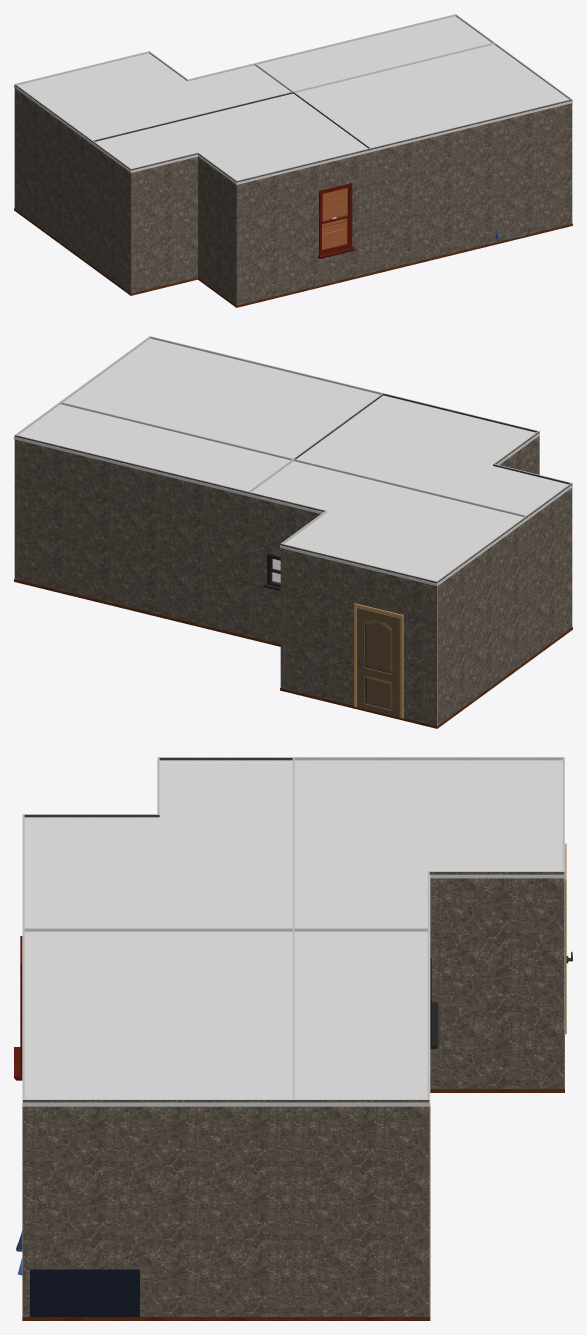
File: ProcTHOR-Train-7.glb
3 renders of one model, top to bottom at view 1: azimuth 30°, elevation 25°; view 2: azimuth 150°, elevation 25°; view 3: azimuth 270°, elevation 25°, orthographic. The views are drawn at different scales.
Visible parts, largest first — view 1: WallInside#wall|exterior|0.00|6.66|4.99|6.66, Ceiling#room|4|c, WallInside#wall|exterior|4.99|6.66|8.32|6.66, Ceiling#room|7|c, Ceiling#room|6|c, WallInside#wall|exterior|9.98|0.00|9.98|3.33, WallInside#wall|exterior|8.32|4.99|9.98|4.99, Ceiling#room|5|c, WallInside#wall|exterior|9.98|3.33|9.98|4.99, WallInside#wall|exterior|8.32|4.99|8.32|6.66, Doorway_Door_4a, Window_Hung_32x60 (+5 smaller); view 2: WallInside#wall|exterior|0.00|1.66|4.99|1.66, Ceiling#room|4|c, WallInside#wall|exterior|6.66|0.00|9.98|0.00, Ceiling#room|6|c, Ceiling#room|7|c, WallInside#wall|exterior|9.98|0.00|9.98|3.33, Ceiling#room|5|c, WallInside#wall|exterior|9.98|3.33|9.98|4.99, Doorway_6, WallInside#wall|exterior|4.99|1.66|6.66|1.66, WallInside#wall|exterior|8.32|4.99|8.32|6.66, Floor#room|6|f (+4 smaller); view 3: WallInside#wall|exterior|0.00|3.33|0.00|6.66, Ceiling#room|4|c, Ceiling#room|6|c, Ceiling#room|7|c, WallInside#wall|exterior|0.00|1.66|0.00|3.33, WallInside#wall|exterior|6.66|0.00|6.66|1.66, Ceiling#room|5|c, Bed_28, Floor#room|4|f, WallInside#wall|6|9.98|0.00|9.98|3.33, WallInside#wall|4|4.99|3.33|4.99|6.66, Floor#room|5|f.
Part boxes in pixels (x1,y1,x2,y2): WallInside#wall|exterior|0.00|6.66|4.99|6.66: (370,99,572,272); Ceiling#room|4|c: (294,44,572,151); WallInside#wall|exterior|4.99|6.66|8.32|6.66: (236,148,371,305); Ceiling#room|7|c: (92,94,370,184); Ceiling#room|6|c: (14,53,292,144); WallInside#wall|exterior|9.98|0.00|9.98|3.33: (14,84,92,264); WallInside#wall|exterior|8.32|4.99|9.98|4.99: (131,153,197,293); Ceiling#room|5|c: (256,16,491,92); WallInside#wall|exterior|9.98|3.33|9.98|4.99: (92,141,130,293); WallInside#wall|exterior|8.32|4.99|8.32|6.66: (198,153,236,305); Doorway_Door_4a: (322,188,347,249); Window_Hung_32x60: (318,183,354,258); WallInside#wall|exterior|0.00|1.66|4.99|1.66: (14,435,248,636); Ceiling#room|4|c: (61,338,383,460); WallInside#wall|exterior|6.66|0.00|9.98|0.00: (280,543,436,725); Ceiling#room|6|c: (248,461,527,586); Ceiling#room|7|c: (295,395,572,520); WallInside#wall|exterior|9.98|0.00|9.98|3.33: (437,516,527,725); Ceiling#room|5|c: (14,404,291,496); WallInside#wall|exterior|9.98|3.33|9.98|4.99: (527,483,572,659); Doorway_6: (354,603,403,718); WallInside#wall|exterior|4.99|1.66|6.66|1.66: (248,491,326,644); WallInside#wall|exterior|8.32|4.99|8.32|6.66: (494,431,539,474); Floor#room|6|f: (249,636,527,728); WallInside#wall|exterior|0.00|3.33|0.00|6.66: (23,1099,294,1316); Ceiling#room|4|c: (22,931,295,1106); Ceiling#room|6|c: (292,759,564,931); Ceiling#room|7|c: (22,759,295,931); WallInside#wall|exterior|0.00|1.66|0.00|3.33: (292,1099,429,1316); WallInside#wall|exterior|6.66|0.00|6.66|1.66: (429,871,564,1088); Ceiling#room|5|c: (292,931,430,1106); Bed_28: (16,1229,139,1316); Floor#room|4|f: (22,1145,295,1320); WallInside#wall|6|9.98|0.00|9.98|3.33: (292,757,563,760); WallInside#wall|4|4.99|3.33|4.99|6.66: (24,928,292,931); Floor#room|5|f: (292,1145,430,1320).
Size of what is drawn, in the model's own units: 10.02 by 3 by 6.89.
217 materials, 104 textured.
